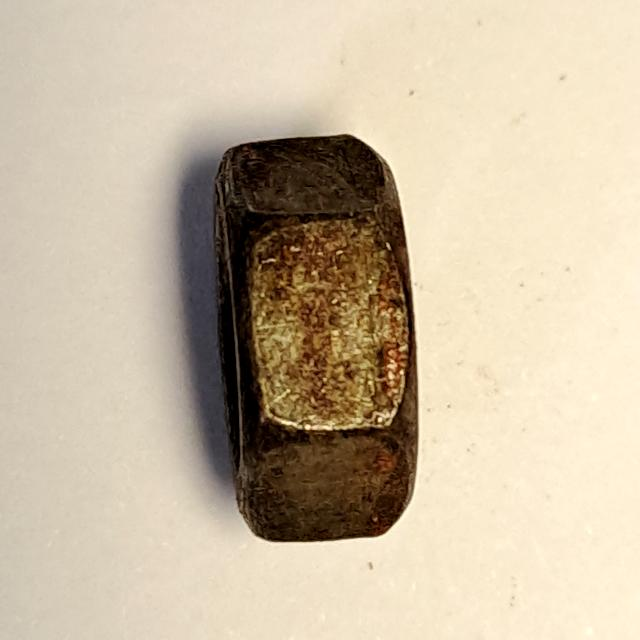Side_Rust: (196, 124, 443, 558)
